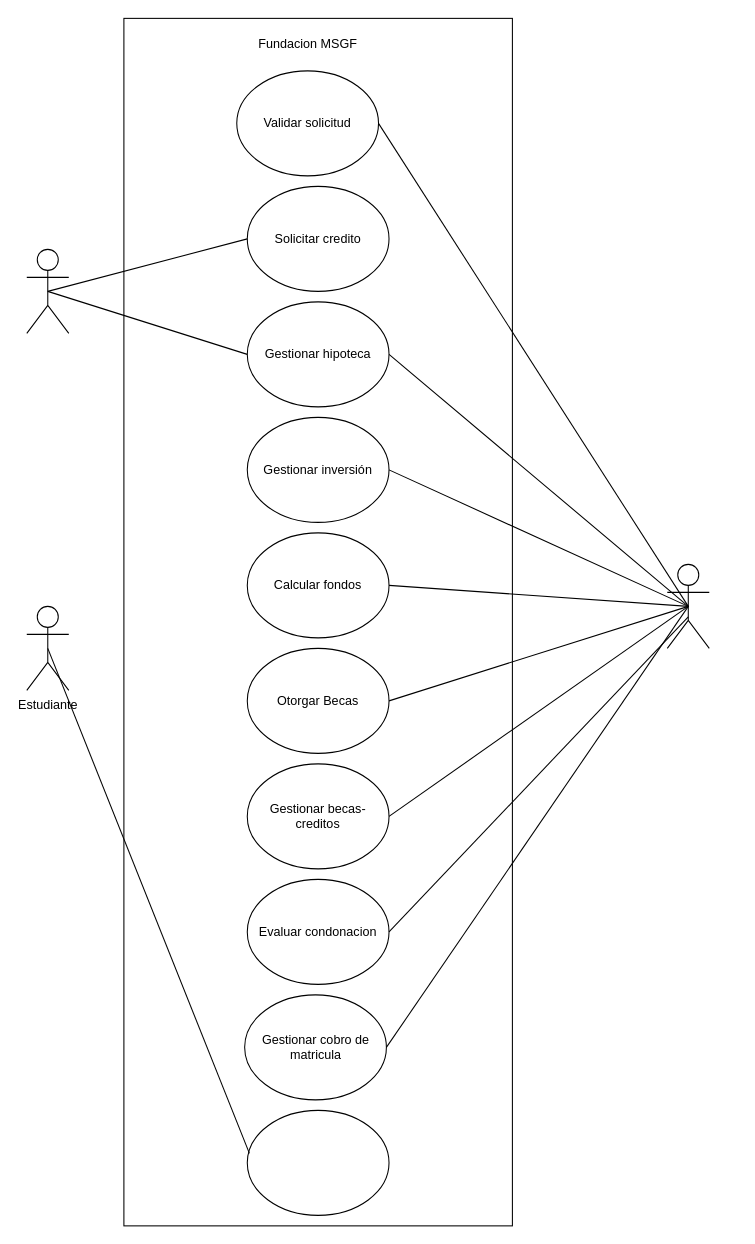
The diagram is 755 pixels wide and 1244 high, and some of its shapes have lost their labels. The shapes that lost their labels are listed below. From the top down, each one's box as (x1, y1, x2, y2) in pixels, then its label:
(26, 248, 69, 333): Pareja
(666, 563, 709, 648): Empleado MSGF
(246, 1109, 389, 1215): Presentar notas semestrales
